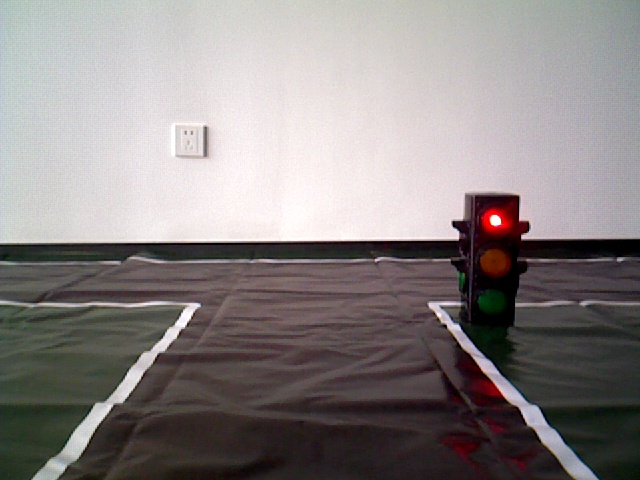red: (466, 195, 513, 326)
